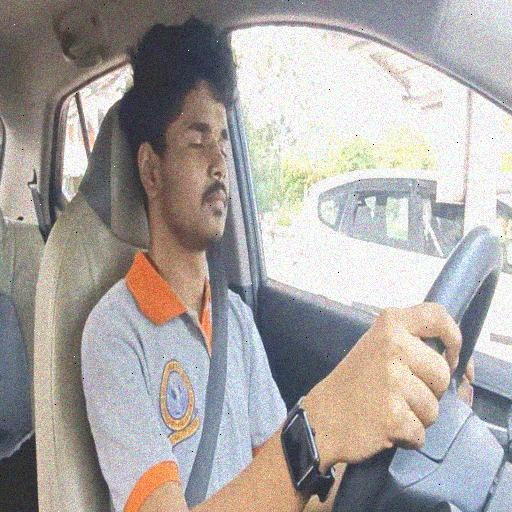Closed Eye: (93, 31, 252, 512)
